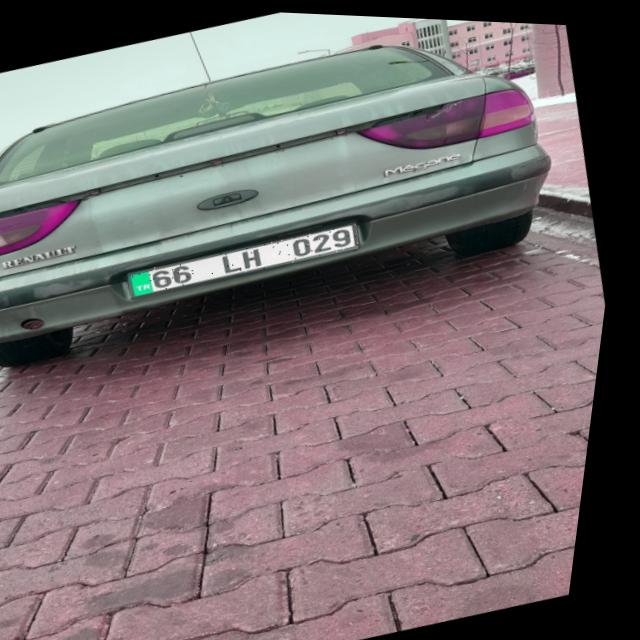license_plate: (132, 212, 368, 303)
